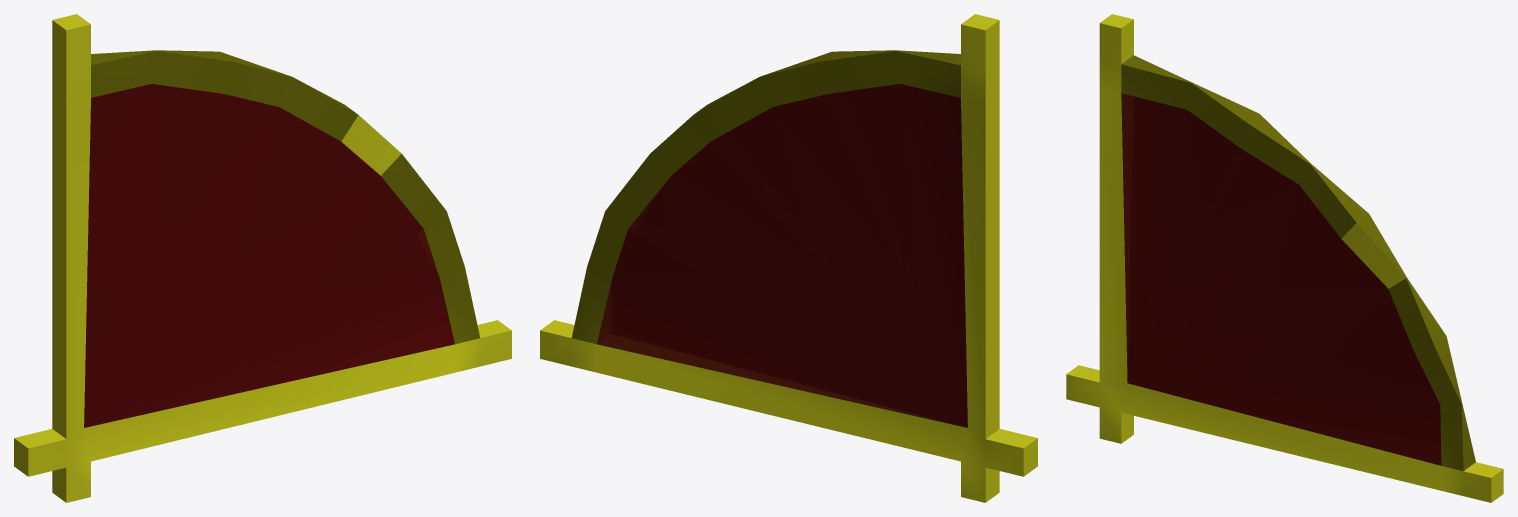
File: avanicos.fbx
The picture shows the model from 3 angles, left to right: view 1: azimuth 30°, elevation 25°; view 2: azimuth 150°, elevation 25°; view 3: azimuth 330°, elevation 25°; orthographic projection. The views are drawn at different scales.
Visible parts, largest first — view 1: avanicos; view 2: avanicos; view 3: avanicos.
Part boxes in pixels (x1=…): avanicos: x1=14, y1=14, x2=511, y2=502; avanicos: x1=540, y1=14, x2=1037, y2=502; avanicos: x1=1066, y1=14, x2=1503, y2=502.
Bounding box in the file's own units: 393 × 367 × 20.
